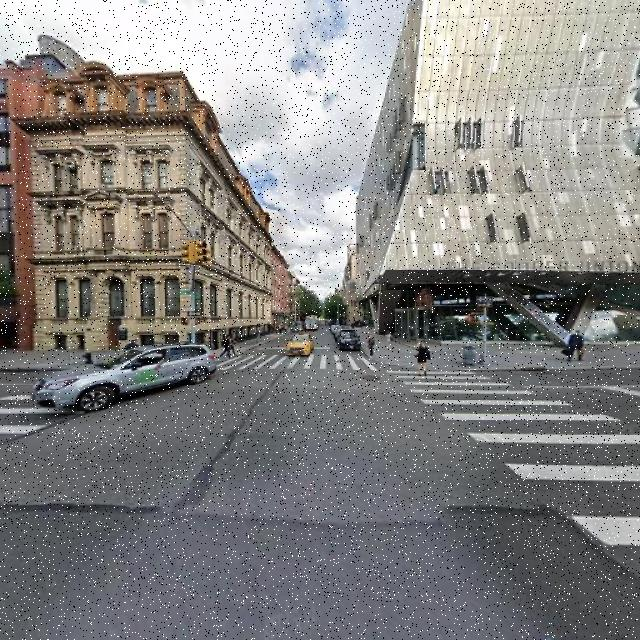Building: (357, 1, 640, 344), (13, 83, 269, 353)
